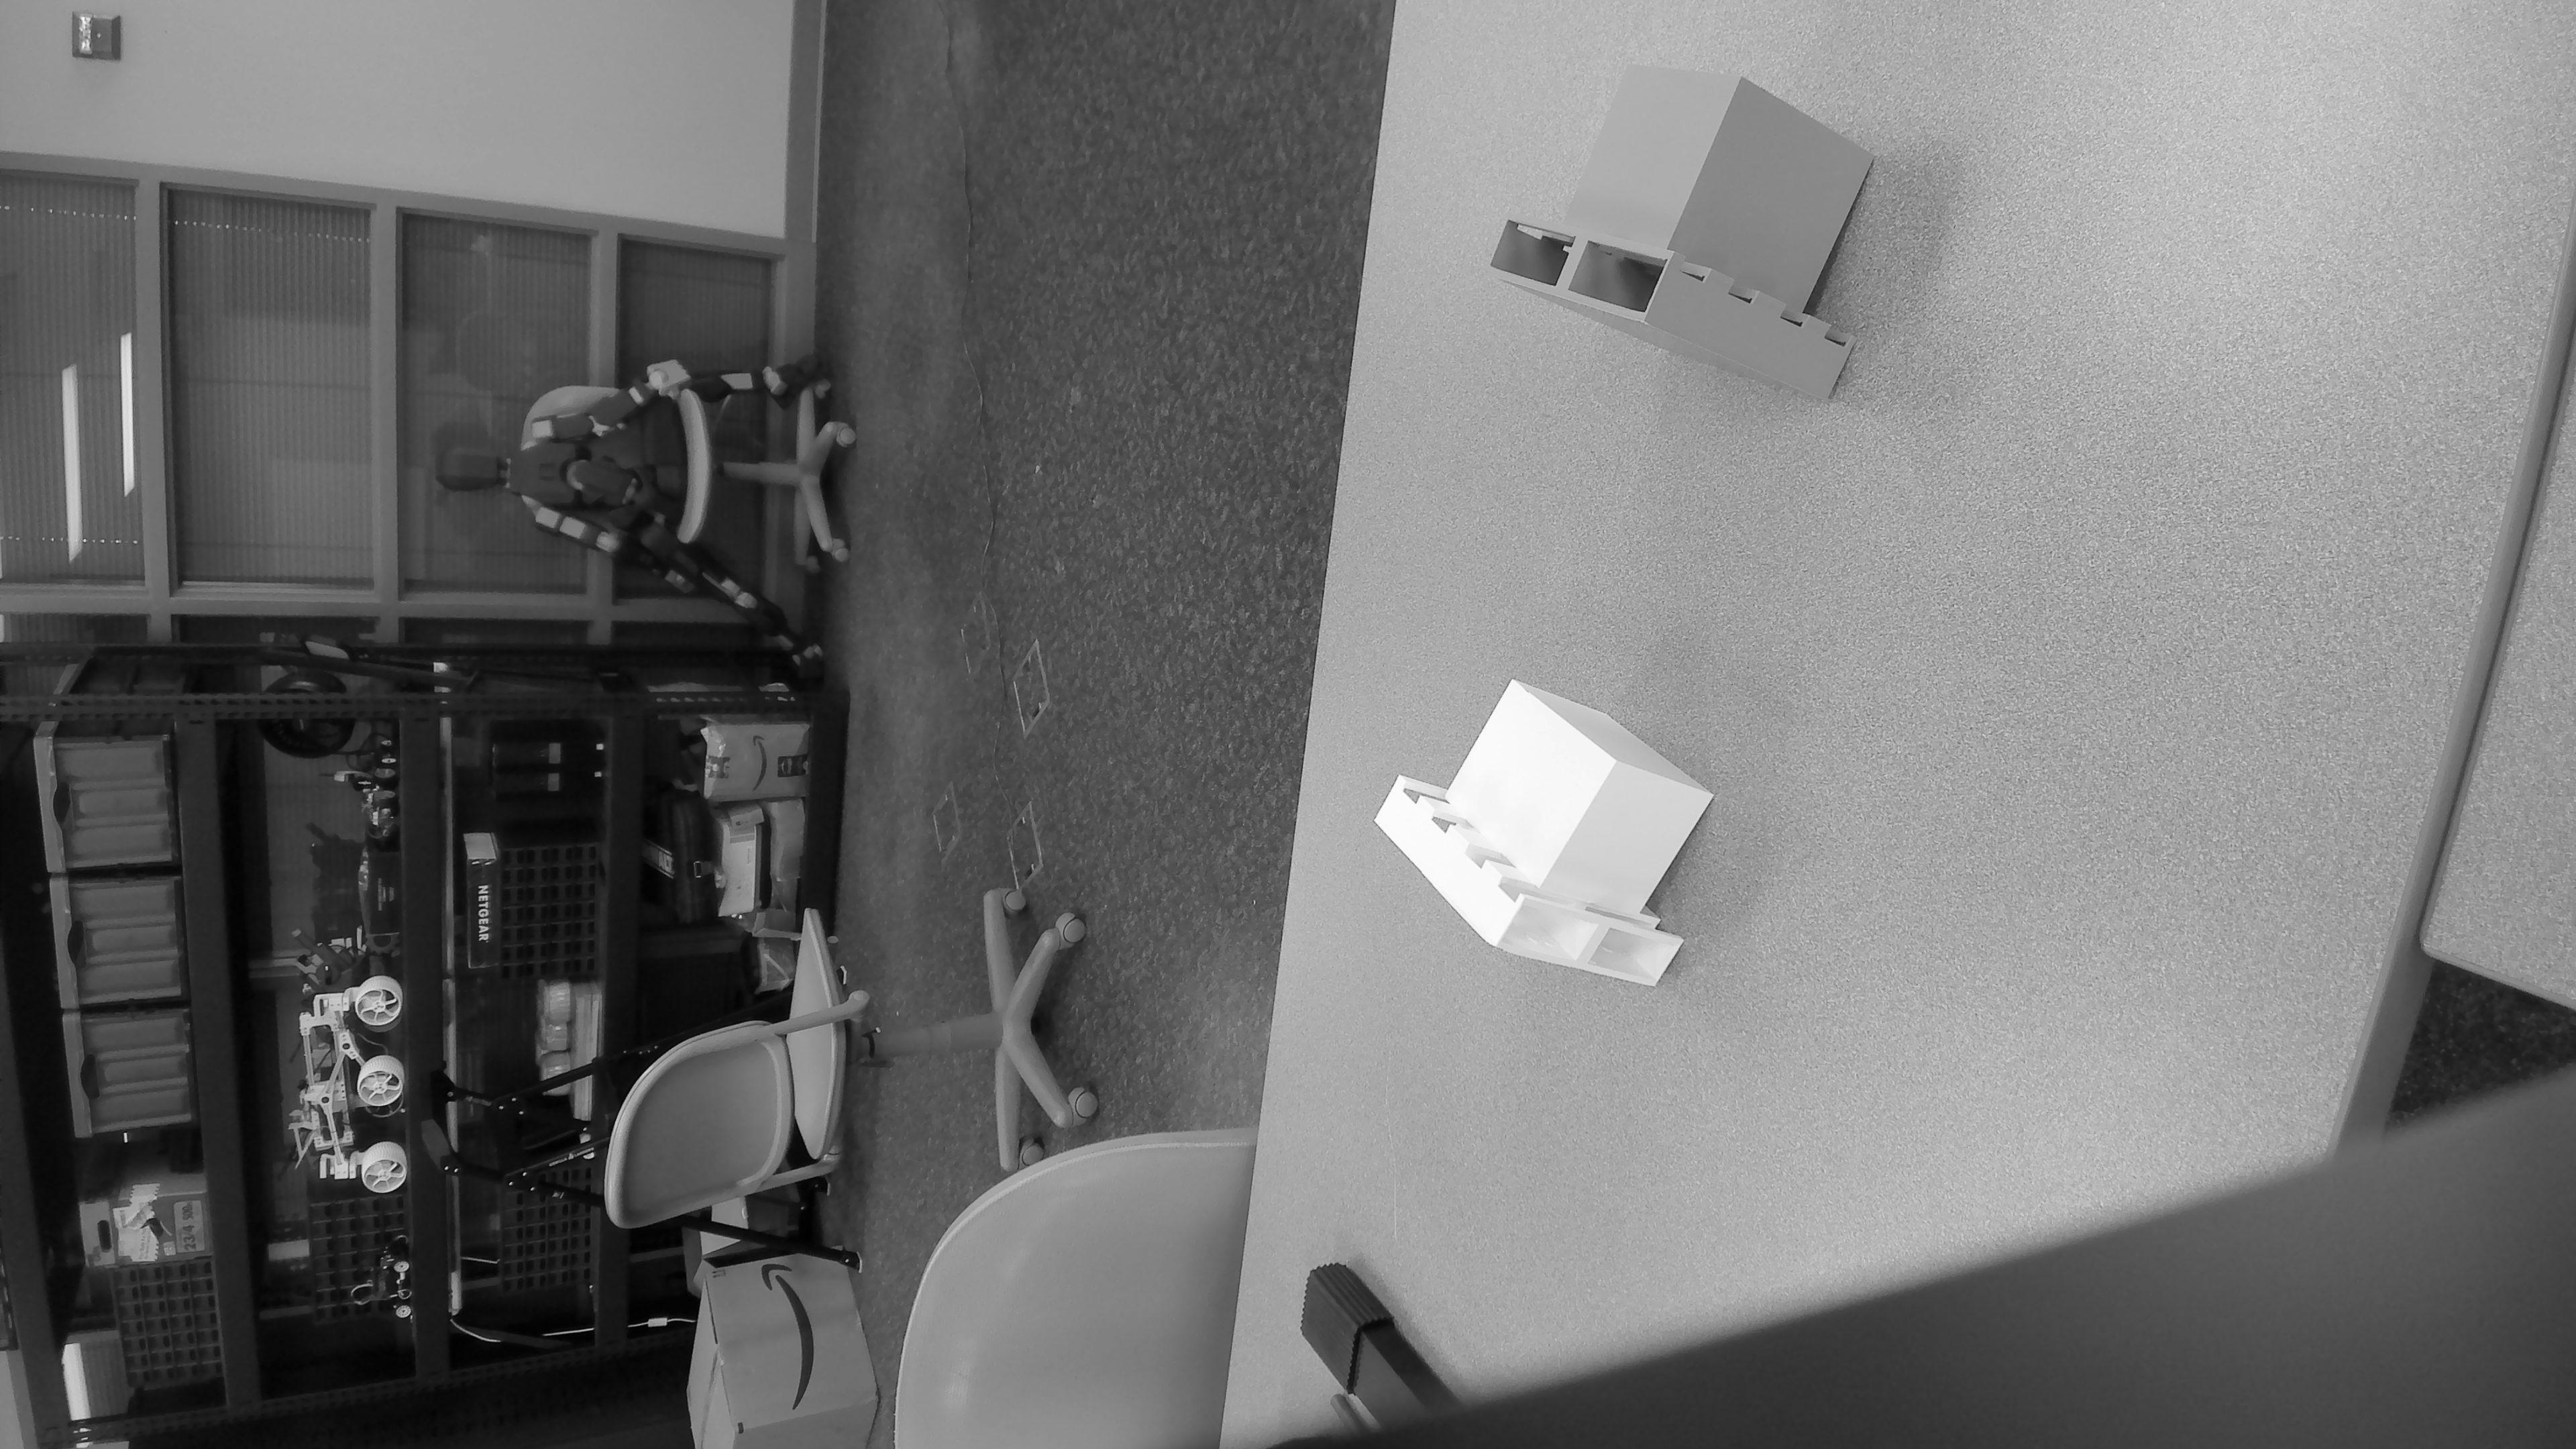grey pallet: (1479, 58, 1890, 416)
white pallet: (1373, 669, 1698, 1003)
